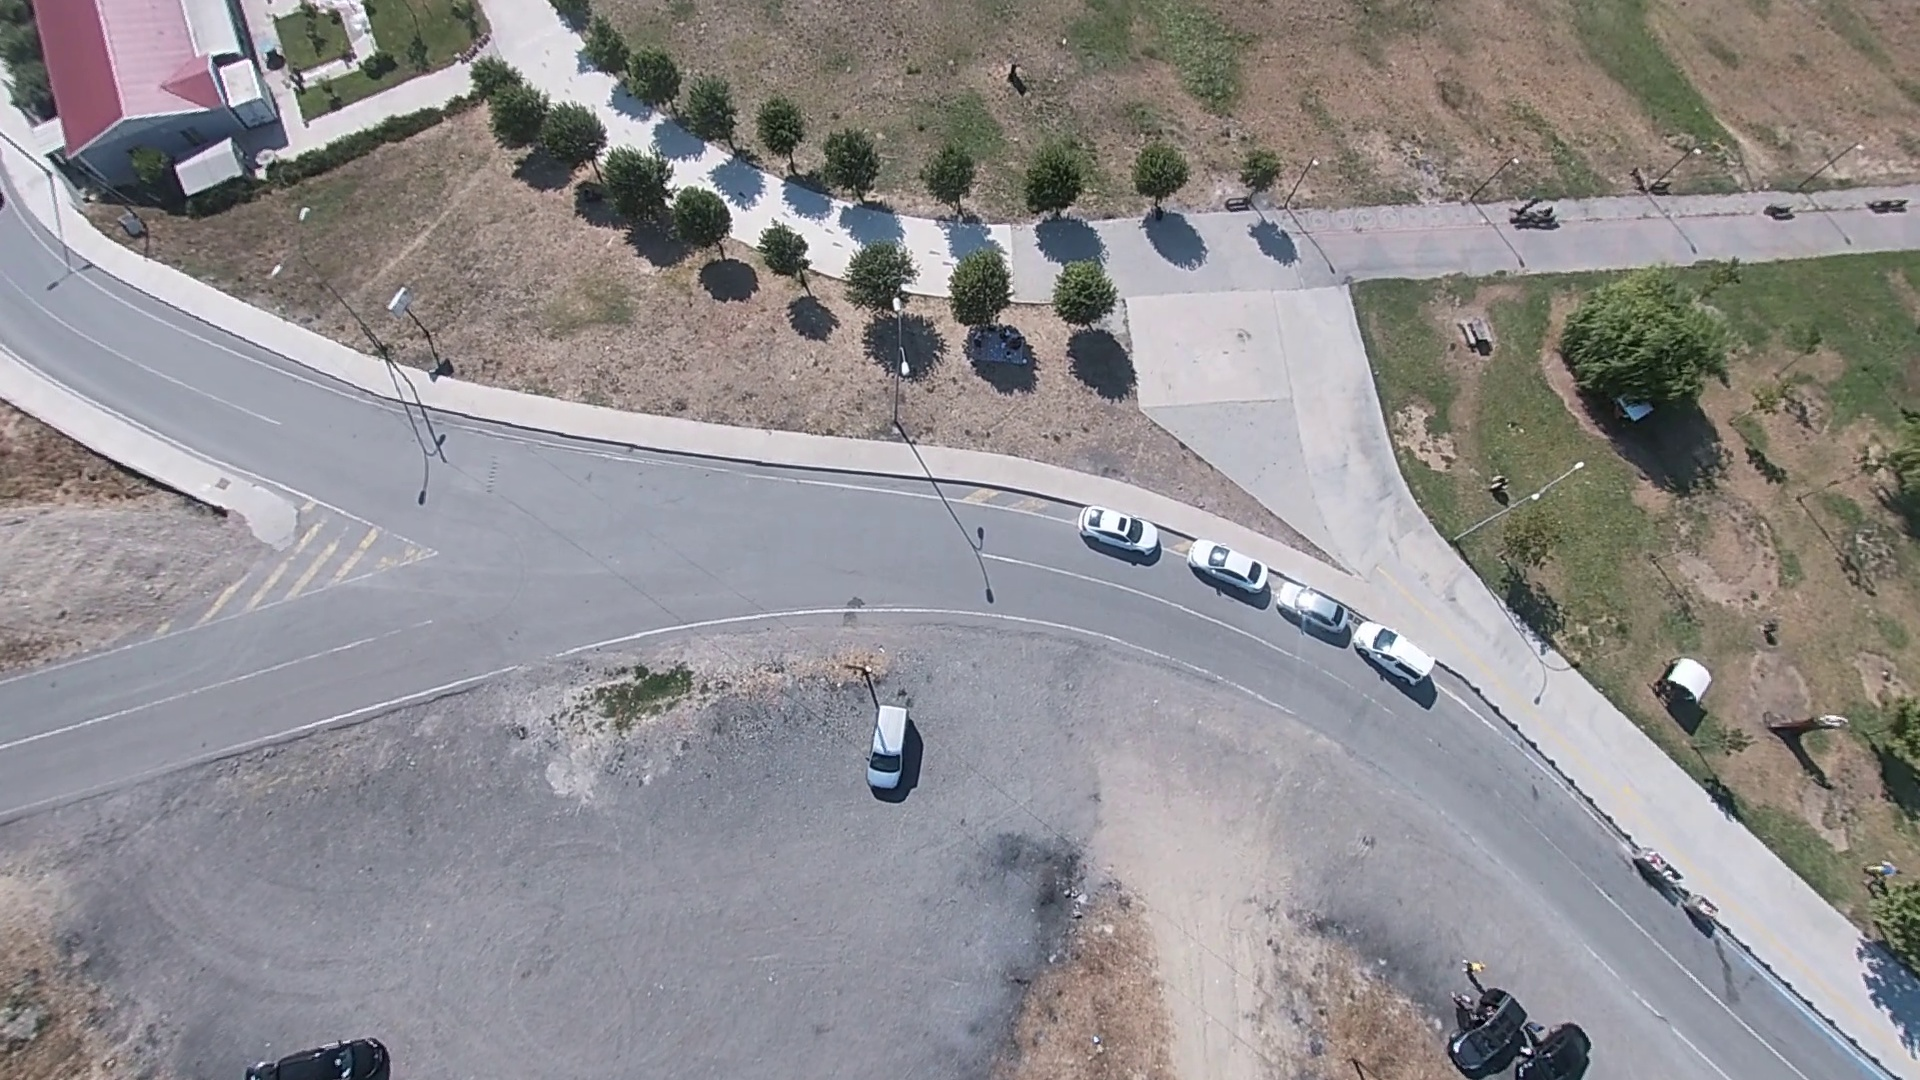arac: (1180, 536, 1444, 694), (863, 693, 924, 804), (1185, 531, 1273, 607), (1075, 499, 1167, 567)
insan: (1862, 864, 1897, 899), (1003, 60, 1026, 97)
